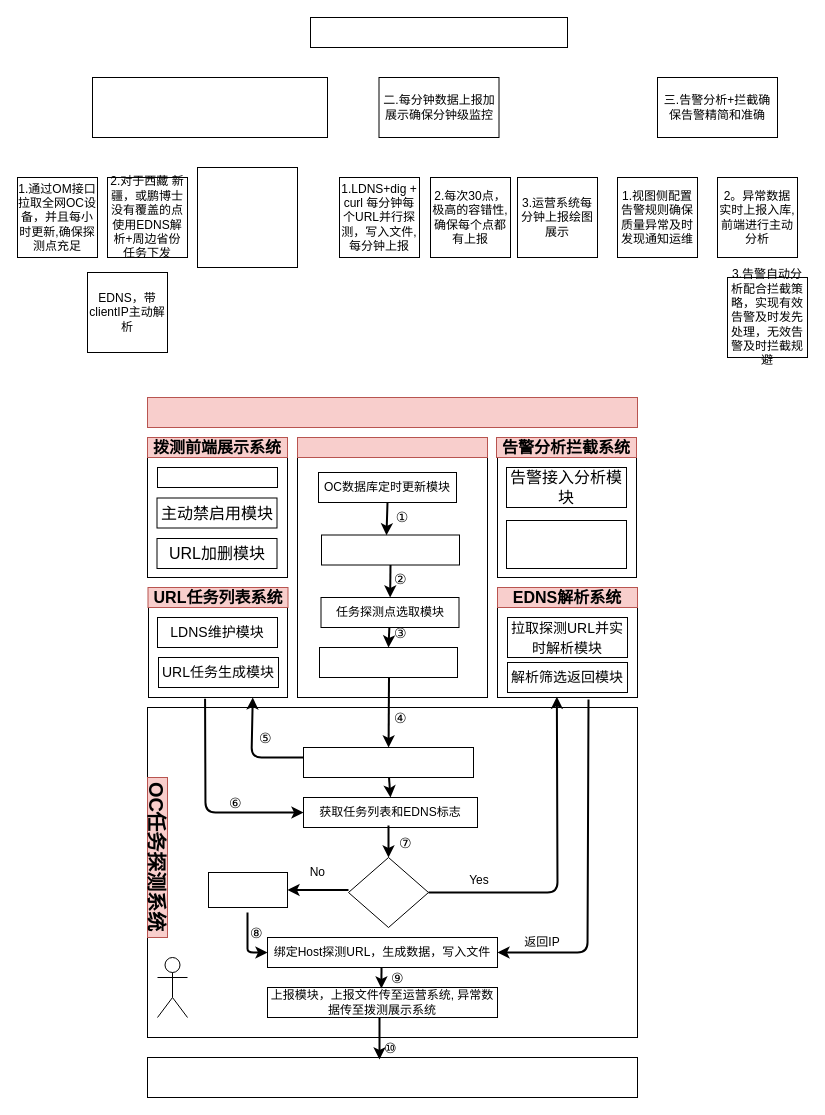
The diagram is 825 pixels wide and 1115 high, and some of its shapes have lost their labels. The shapes that lost their labels are listed below. From the top down, each one's box as (x1, y1, x2, y2) in pixels, then its label:
(310, 16, 568, 48): 现网分钟级质量监控利器-----真实拨测
(92, 76, 328, 138): 一.使用OC点+EDNS确保各个ISP + province都有准确探测数据
(196, 166, 298, 268): 3.外围实时探测机房丢包，剔除问题探测点 + 运营系统主动剔除机房，屏蔽模块等
(146, 396, 638, 428): 真实拨测系统架构图
(296, 436, 488, 458): 探测任务生成和下发系统
(156, 466, 278, 488): 手动分析模块
(320, 534, 460, 565): 异常机房自动分析过滤模块
(506, 520, 626, 568): 告警拦截策略模块
(318, 646, 458, 678): AJS任务下发模块
(302, 746, 474, 778): 根据TASKID请求URL生成模块
(208, 872, 288, 908): 正常解析IP
(348, 856, 428, 928): EDNS=1
(146, 1056, 638, 1098): URL探测视图展示以及告警规则配置
